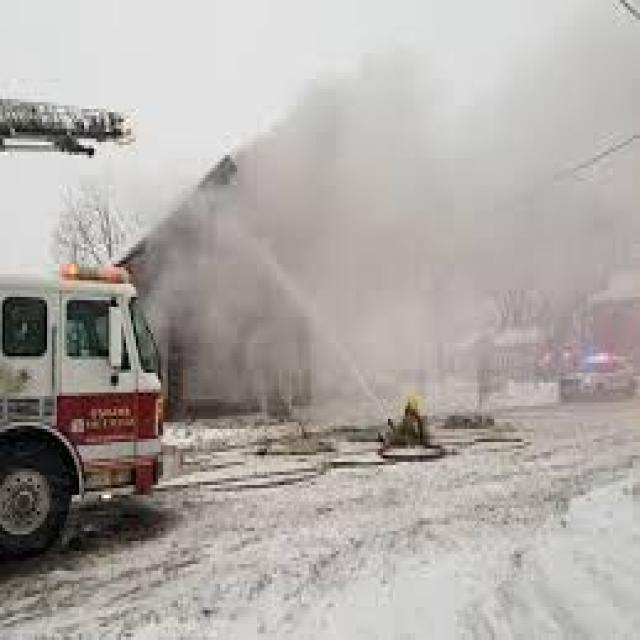smoke: (79, 12, 640, 457)
